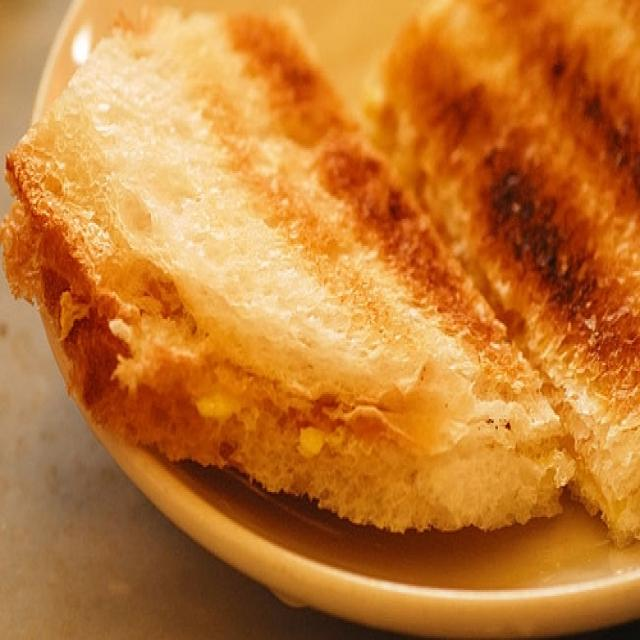面包点心: (16, 35, 596, 567)
